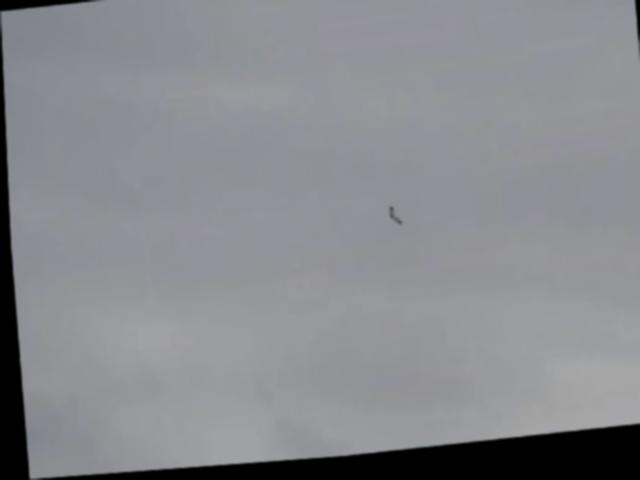flying wing: (383, 210, 401, 238)
